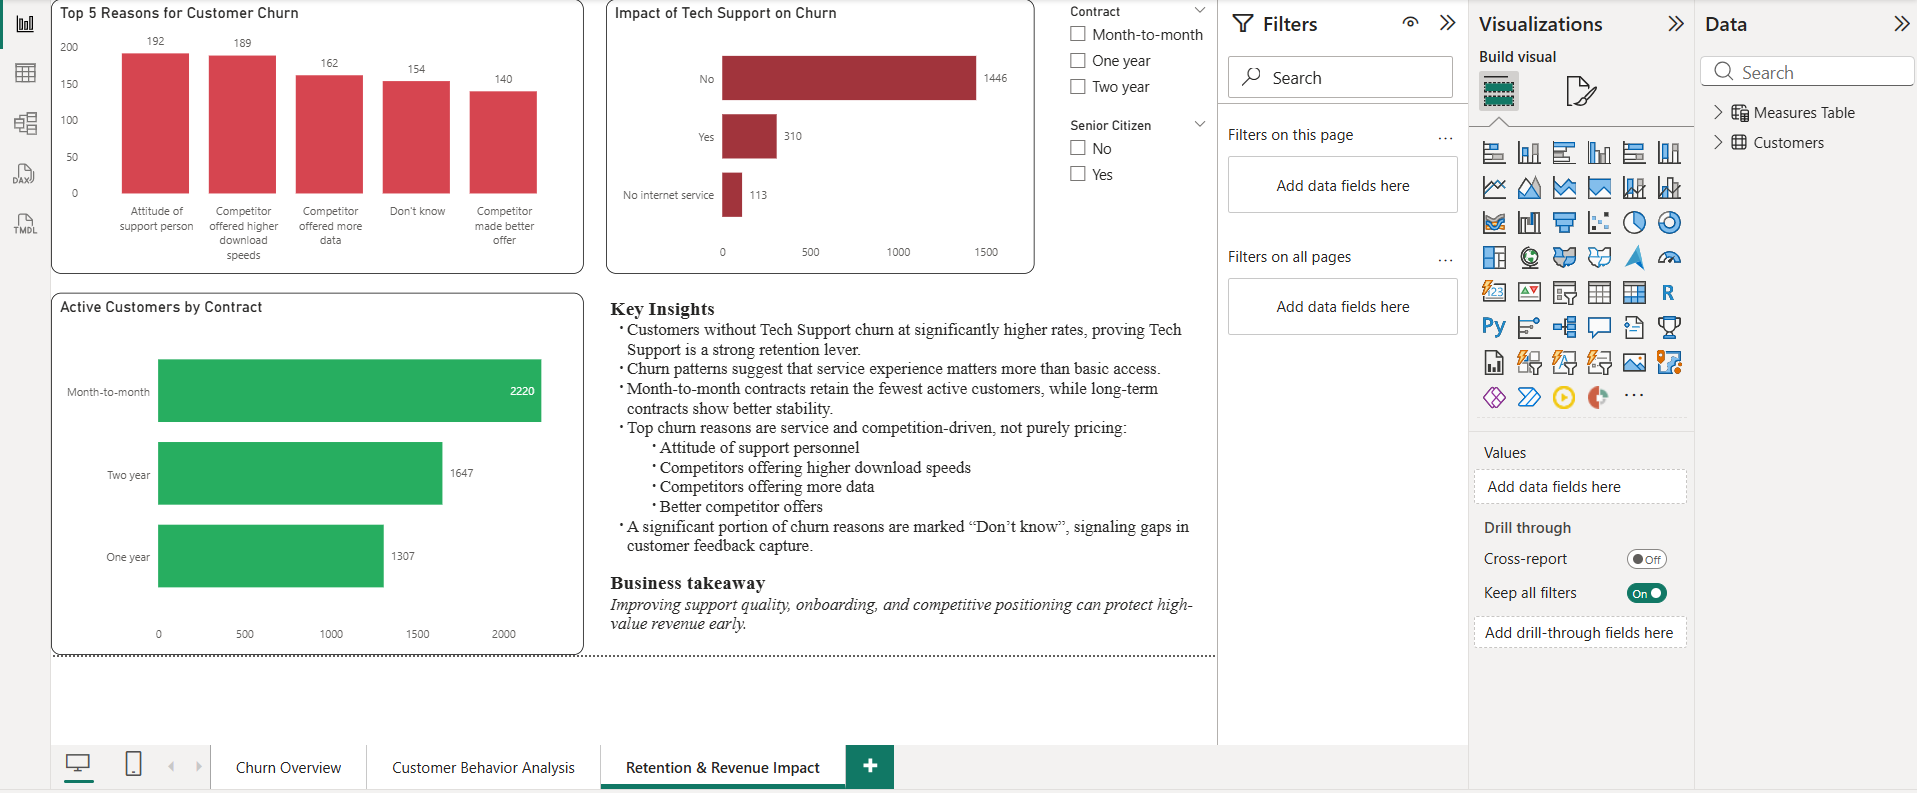

What the dashboard file says about the page in this screenshot:
{"tool":"powerbi","page":{"name":"Retention & Revenue Impact","canvas":[1280,720],"ordinal":2},"visuals":[{"type":"clusteredBarChart","title":"Active Customers by Contract","fields":{"Category":["Customers.Contract"],"Y":["Measures Table.Active Customers"]},"box":[0,322.5,584.6,397.9],"z":0},{"type":"clusteredBarChart","title":"Impact of Tech Support on Churn","fields":{"Category":["Customers.Tech Support"],"Y":["Measures Table.Churned Customers"]},"box":[609.3,0,470.7,301.9],"z":1000},{"type":"clusteredColumnChart","title":"Top 5 Reasons for Customer Churn","fields":{"Category":["Customers.Churn Reason"],"Y":["Measures Table.Churned Customers"]},"box":[0,0,584.6,301.9],"z":2000},{"type":"textbox","box":[609,322,671,398],"z":3000},{"type":"slicer","fields":{"Values":["Customers.Senior Citizen"]},"box":[1106,124.9,174.3,91.9],"z":4000},{"type":"slicer","fields":{"Values":["Customers.Contract"]},"box":[1105.7,0,174.3,124.9],"z":5000}]}

Visuals, with their boxes on the page's 1280x720 design canvas (x1, y1, x2, y2). These are canvas units, not pixel positions in the 1917x793 screenshot, which may show the page scaled, cropped or inside an application window:
"Active Customers by Contract" clusteredBarChart: x1=0 y1=322 x2=585 y2=720
"Impact of Tech Support on Churn" clusteredBarChart: x1=609 y1=0 x2=1080 y2=302
"Top 5 Reasons for Customer Churn" clusteredColumnChart: x1=0 y1=0 x2=585 y2=302
textbox: x1=609 y1=322 x2=1280 y2=720
slicer - Customers.Senior Citizen: x1=1106 y1=125 x2=1280 y2=217
slicer - Customers.Contract: x1=1106 y1=0 x2=1280 y2=125
